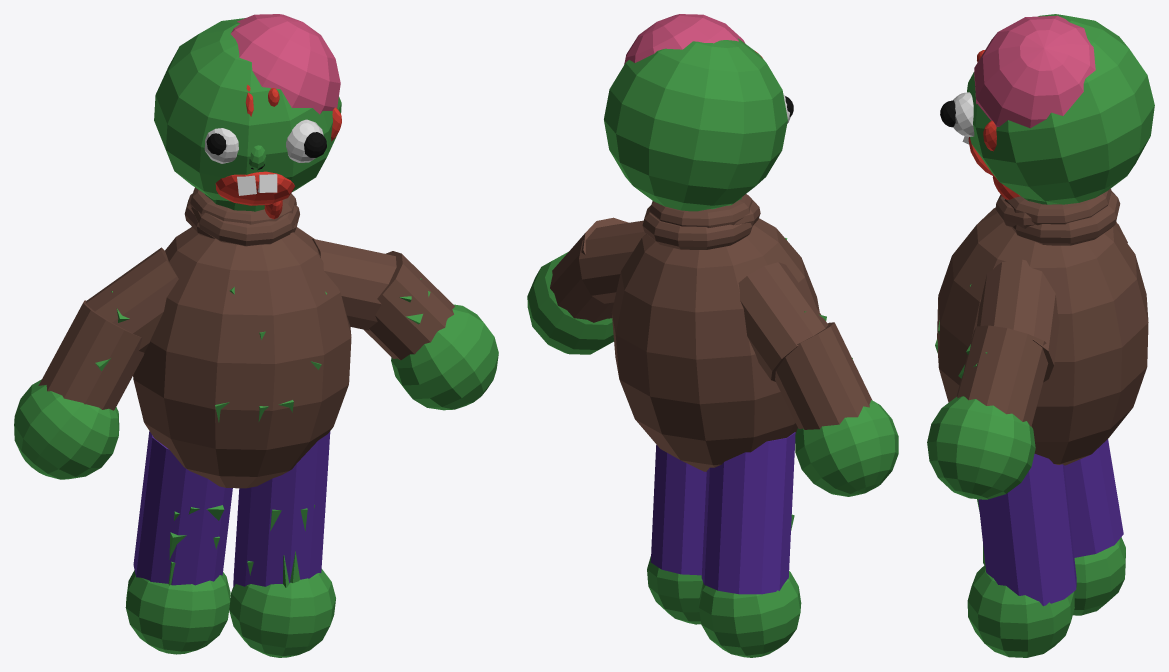
3 views of the same model, side by side, from view 1: azimuth 30°, elevation 25°; view 2: azimuth 150°, elevation 25°; view 3: azimuth 270°, elevation 25° (orthographic). The views are drawn at different scales.
Visible parts, largest first — view 1: node_MeshObject1326933568-PolyPaper8, node_MeshObject1845653632-PolyPaper8; view 2: node_MeshObject1326933568-PolyPaper8, node_MeshObject1845653632-PolyPaper8; view 3: node_MeshObject1326933568-PolyPaper8, node_MeshObject1845653632-PolyPaper8.
Boxes of the visible parts, x1,y1,x2,y2 form: node_MeshObject1326933568-PolyPaper8: [14, 14, 454, 657]; node_MeshObject1845653632-PolyPaper8: [268, 88, 498, 410]; node_MeshObject1326933568-PolyPaper8: [550, 14, 898, 657]; node_MeshObject1845653632-PolyPaper8: [527, 252, 613, 354]; node_MeshObject1326933568-PolyPaper8: [935, 14, 1154, 657]; node_MeshObject1845653632-PolyPaper8: [927, 50, 1035, 499].
Size of the model in its own units: 0.5381 by 0.7639 by 0.2503.
